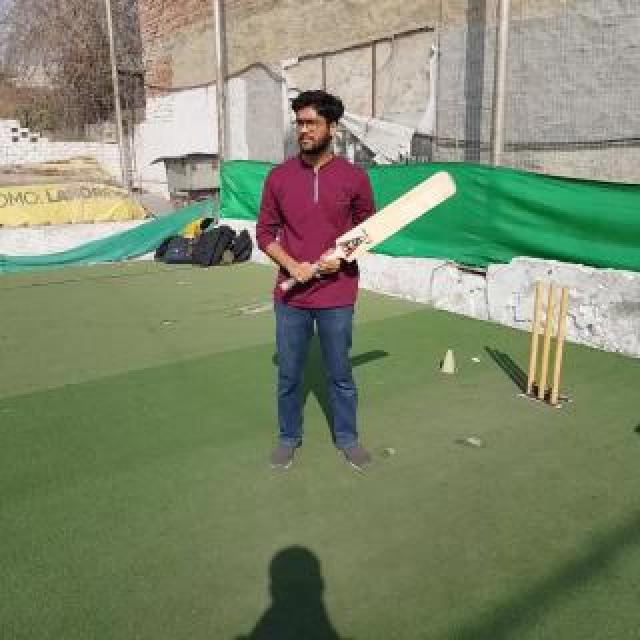bat: (278, 172, 458, 290)
